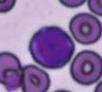L: (29, 26, 75, 69)
